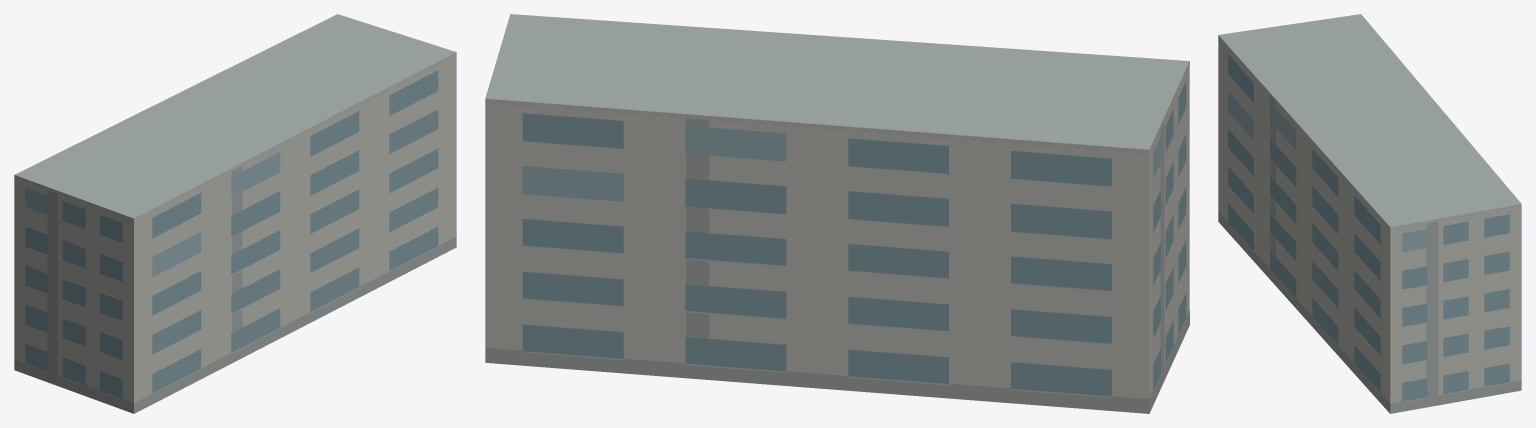
File: residential-a614e983-8bf7-45e4-a3e1-5acb68f1f71b.glb
3 renders of one model, left to right at view 1: azimuth 30°, elevation 25°; view 2: azimuth 150°, elevation 25°; view 3: azimuth 270°, elevation 25°, orthographic. The views are drawn at different scales.
Visible parts, largest first — view 1: residential-a614e983-8bf7-45e4-a3e1-5acb68f1f71b.tmp; view 2: residential-a614e983-8bf7-45e4-a3e1-5acb68f1f71b.tmp; view 3: residential-a614e983-8bf7-45e4-a3e1-5acb68f1f71b.tmp.
Part boxes in pixels (x1,y1,x2,y2): residential-a614e983-8bf7-45e4-a3e1-5acb68f1f71b.tmp: (14,14,456,413); residential-a614e983-8bf7-45e4-a3e1-5acb68f1f71b.tmp: (485,14,1189,413); residential-a614e983-8bf7-45e4-a3e1-5acb68f1f71b.tmp: (1218,14,1521,413).
Bounding box in the file's own units: 37.37 × 15.25 × 22.48.
